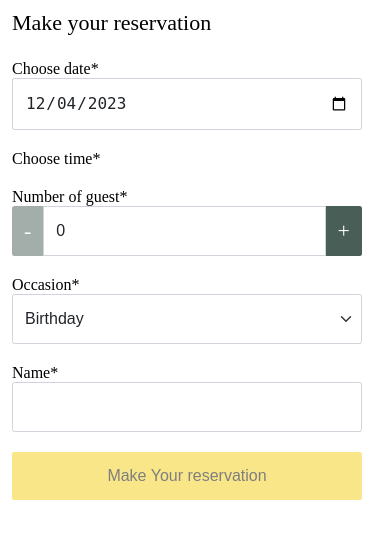
Scenario: Name length
The width and height of the screenshot is (379, 535).
Step 1. Type "T" into the field labelled "Name*" → (187, 407), box x1=12 y1=382 x2=362 y2=432
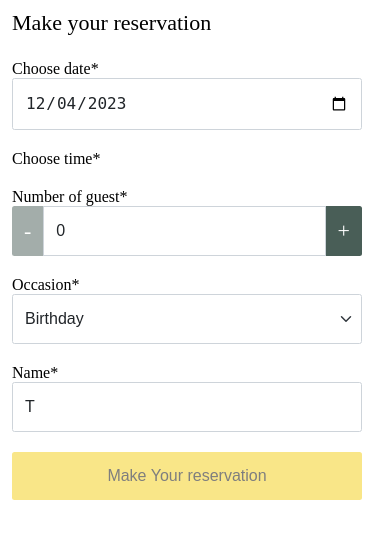
Step 2. Leave the field labelled "Name*", box x1=12 y1=382 x2=362 y2=432
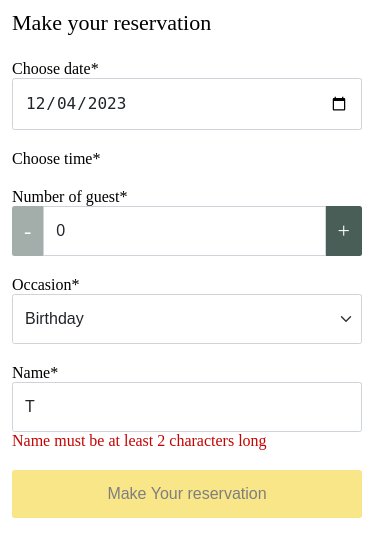
Now the text "Name must be at least 2 characters long" is shown, box x1=12 y1=432 x2=267 y2=449
